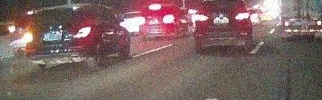L_light: (25, 32, 33, 42), (140, 17, 145, 25)
R_light: (72, 26, 91, 39), (163, 16, 174, 23)
T_light: (51, 9, 63, 11), (149, 7, 161, 9)
night-brake: (140, 5, 177, 39)
night-left: (25, 6, 93, 69)
